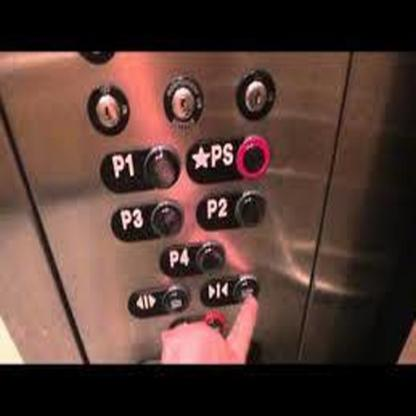P1: (97, 143, 181, 193)
P2: (192, 186, 268, 232)
P3: (107, 198, 188, 244)
P4: (157, 239, 226, 278)
close: (198, 271, 262, 308)
keyhole: (86, 83, 130, 137), (163, 75, 204, 130), (235, 67, 276, 121)
open: (124, 280, 190, 321)
sPS: (183, 132, 271, 184)
